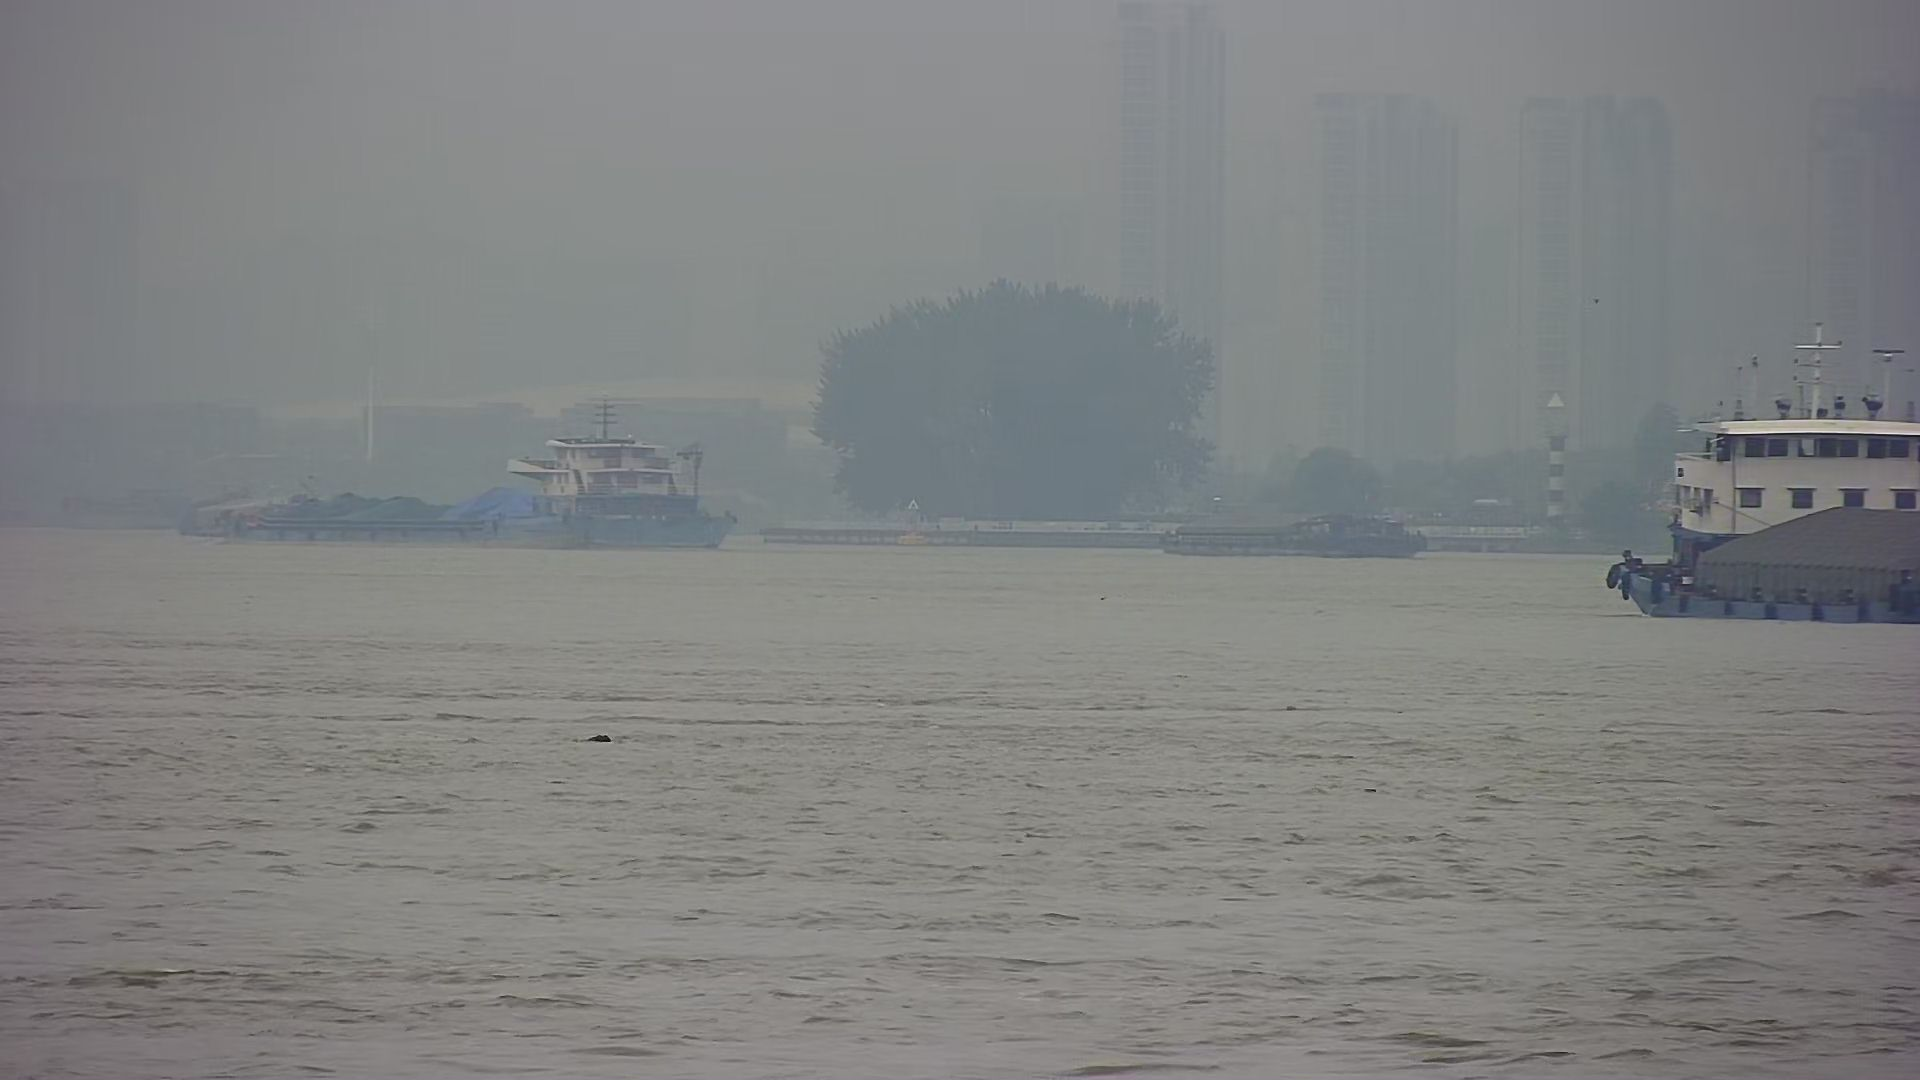ship: (1586, 299, 1920, 640), (193, 389, 750, 555), (1135, 488, 1433, 572)
